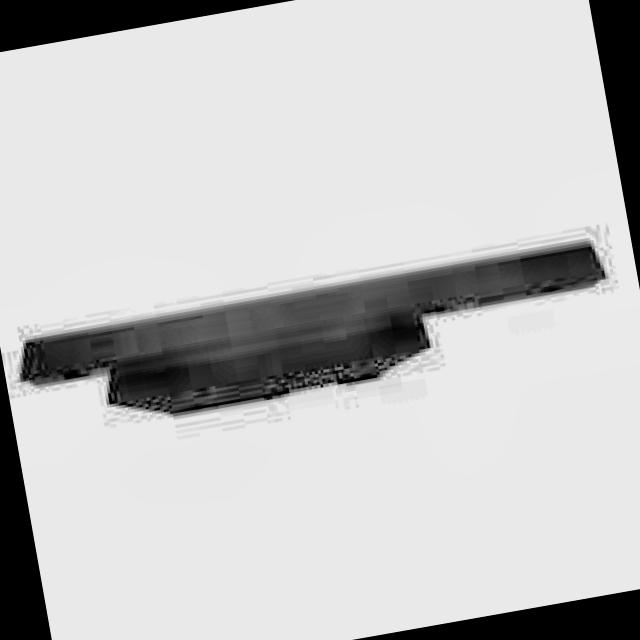Battery: (14, 240, 612, 438)
